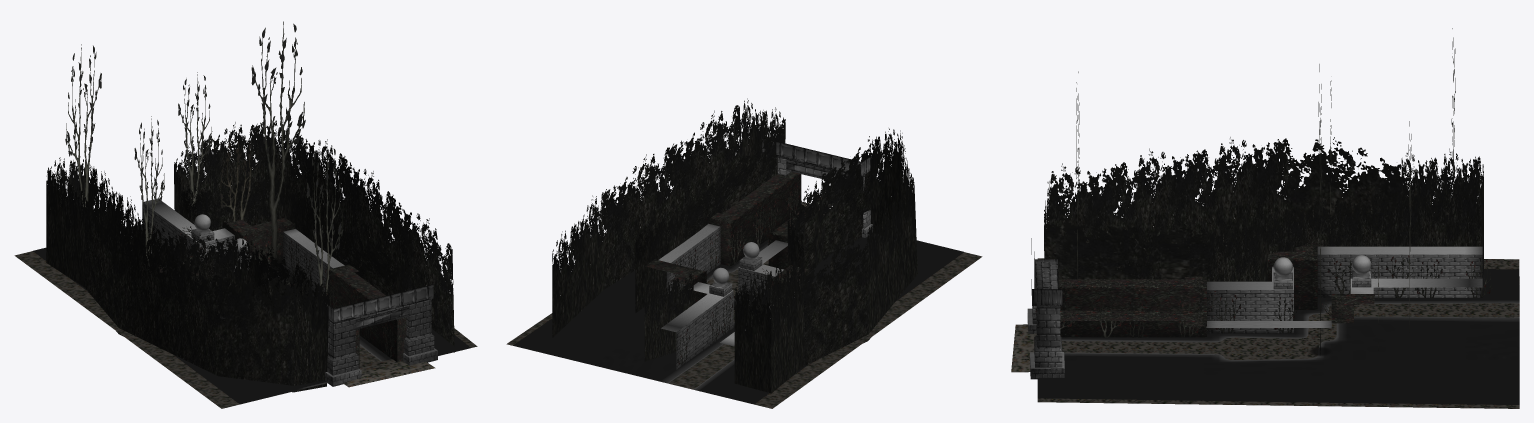
Rendered from hall_0.glb.
3 renders of one model, left to right at view 1: azimuth 30°, elevation 25°; view 2: azimuth 150°, elevation 25°; view 3: azimuth 270°, elevation 25°, orthographic. The views are drawn at different scales.
Parts seen in each view (by area): view 1: hedge1, groundshadow1, pCube136, polySurface25 (×2), tree_29__billboard, groundshadow2, rooftower_3, pCube131, pPlane46__billboard, pPlane53__billboard, rooftower_4, polySurface26 (×2) (+4 smaller); view 2: hedge1, groundshadow2, groundshadow1, pCube136, polySurface25 (×2), polySurface26 (×2), pCube131, pCube137, rooftower_3; view 3: hedge1, groundshadow2, pCube137, groundshadow1, polySurface25 (×2), polySurface26 (×4), pCube136, rooftower_4, SeemPatch, rooftower_3, pCube131, pCube135 (+1 smaller).
Boxes of the visible parts, x1,y1,x2,y2 form: hedge1: [46, 120, 454, 392]; groundshadow1: [14, 251, 477, 408]; pCube136: [142, 198, 344, 293]; polySurface25 (×2): [223, 221, 406, 362]; tree_29__billboard: [251, 21, 305, 270]; groundshadow2: [33, 212, 470, 404]; rooftower_3: [327, 305, 408, 375]; pCube131: [325, 284, 433, 323]; pPlane46__billboard: [65, 44, 101, 206]; pPlane53__billboard: [307, 143, 343, 295]; rooftower_4: [404, 299, 434, 356]; polySurface26 (×2): [226, 217, 403, 319]; hedge1: [552, 98, 917, 393]; groundshadow2: [513, 233, 963, 404]; groundshadow1: [506, 252, 982, 408]; pCube136: [658, 223, 733, 369]; polySurface25 (×2): [703, 174, 801, 269]; polySurface26 (×2): [645, 172, 799, 284]; pCube131: [762, 138, 871, 176]; pCube137: [720, 240, 794, 346]; rooftower_3: [786, 158, 870, 228]; hedge1: [1044, 137, 1483, 281]; groundshadow2: [1037, 269, 1519, 404]; pCube137: [1207, 246, 1482, 333]; groundshadow1: [1037, 258, 1519, 408]; polySurface25 (×2): [1058, 259, 1317, 337]; polySurface26 (×4): [1058, 242, 1374, 326]; pCube136: [1206, 278, 1482, 327]; rooftower_4: [1034, 302, 1062, 367]; SeemPatch: [1011, 324, 1036, 372]; rooftower_3: [1032, 251, 1057, 324]; pCube131: [1031, 238, 1062, 306]; pCube135: [1030, 352, 1064, 379].
Size of the model in its own units: 92.37 by 85.8 by 132.
Materials: 13 (13 with a texture image).
